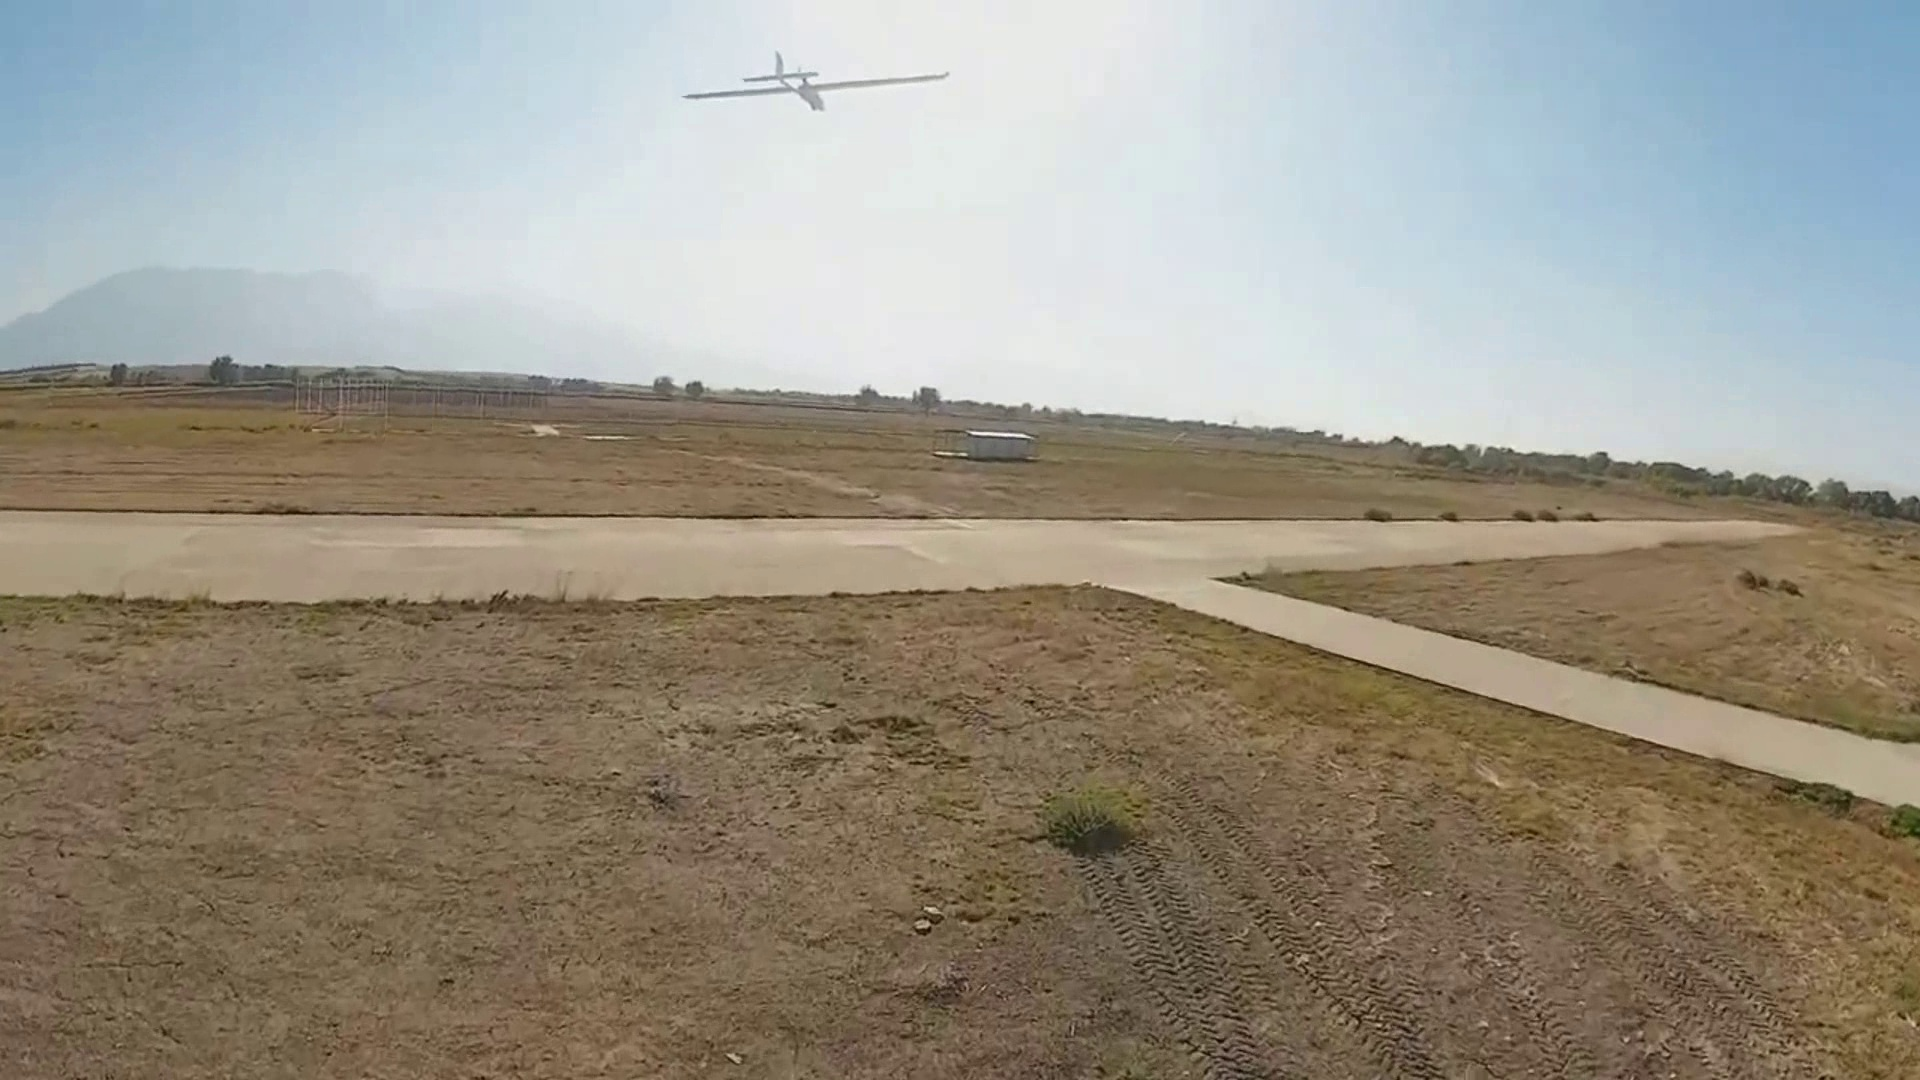airplane: (682, 50, 953, 113)
